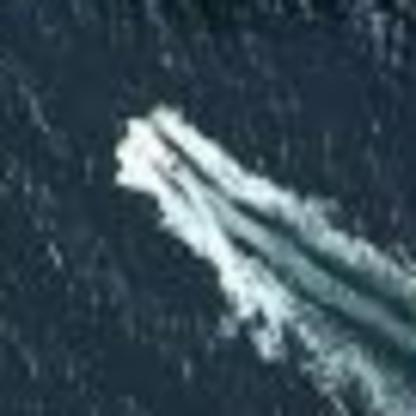ship: (119, 109, 188, 189)
